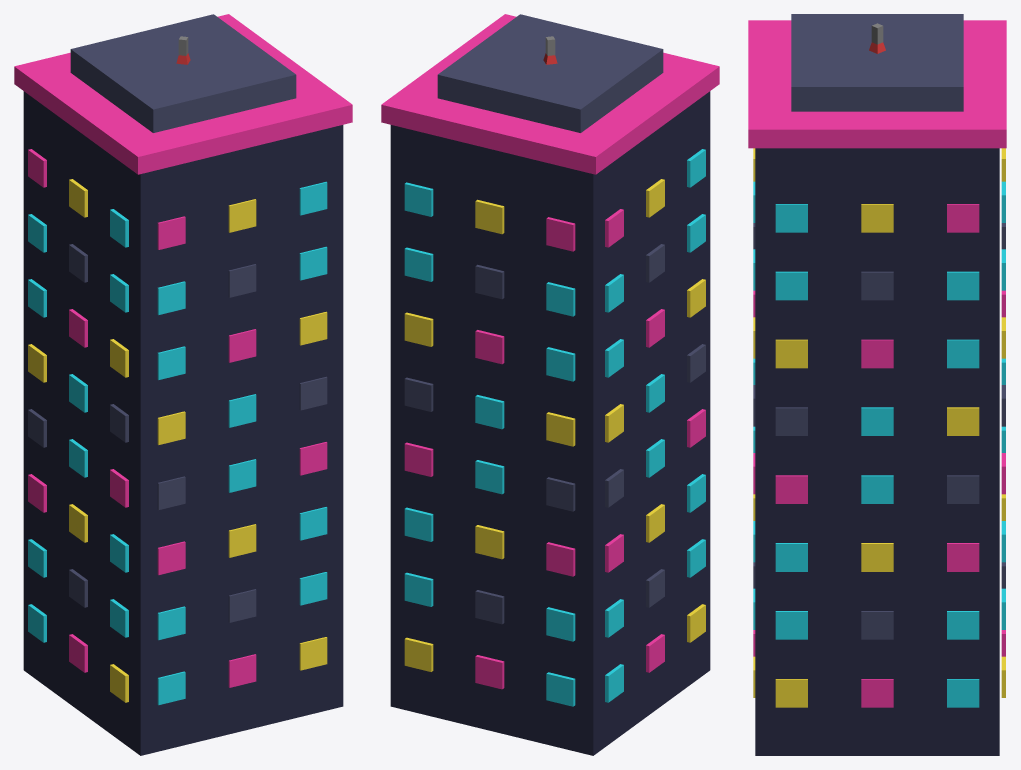
File: env_r8_neon_tower.glb
3 renders of one model, left to right at view 1: azimuth 30°, elevation 25°; view 2: azimuth 150°, elevation 25°; view 3: azimuth 270°, elevation 25°, orthographic. The views are drawn at different scales.
Visible parts, largest first — view 1: env_r8_neon_tower; view 2: env_r8_neon_tower; view 3: env_r8_neon_tower.
Part boxes in pixels (x1,y1,x2,y2): env_r8_neon_tower: (14, 14, 352, 755); env_r8_neon_tower: (381, 14, 719, 755); env_r8_neon_tower: (748, 14, 1006, 755).
Bounding box in the file's own units: 3.8 × 11 × 3.8.
Materials: 1 (1 with a texture image).
